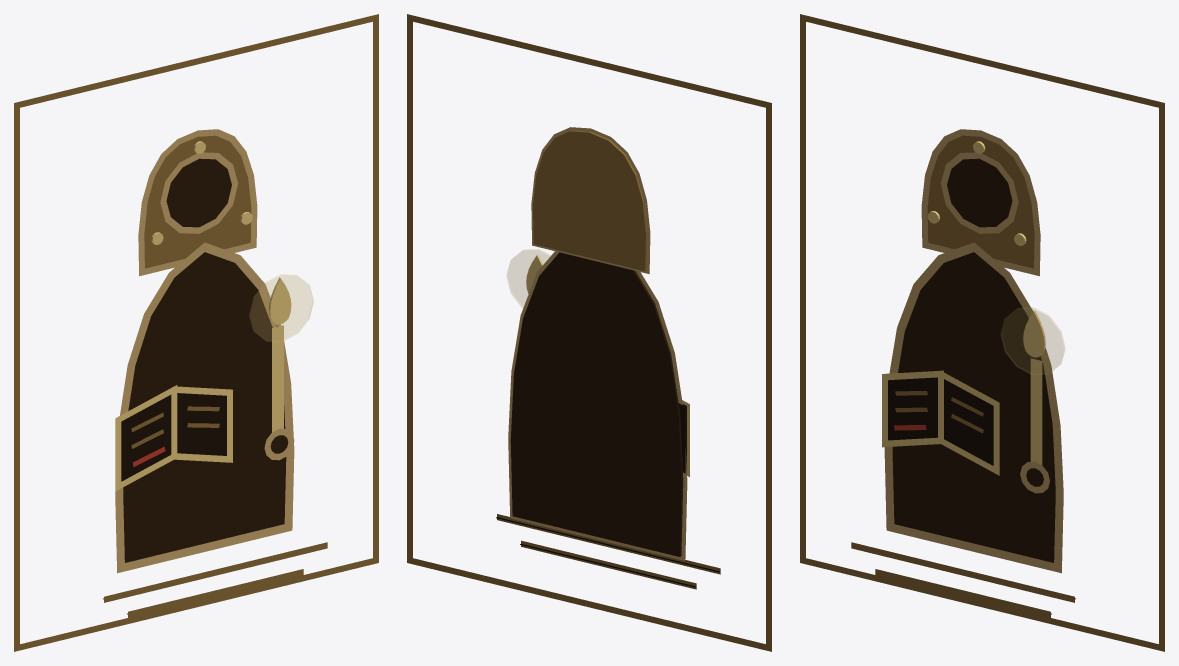
File: npc-theodora.glb
3 views of the same model, side by side, from view 1: azimuth 30°, elevation 25°; view 2: azimuth 150°, elevation 25°; view 3: azimuth 330°, elevation 25° (orthographic).
Visible parts, largest first — view 1: npc-theodora; view 2: npc-theodora; view 3: npc-theodora.
Boxes of the visible parts, <box> form: npc-theodora: <box>14,14,378,651</box>; npc-theodora: <box>407,14,771,651</box>; npc-theodora: <box>800,14,1164,651</box>.
Size of the model in its own units: 1.14 by 1.64 by 0.1054.
